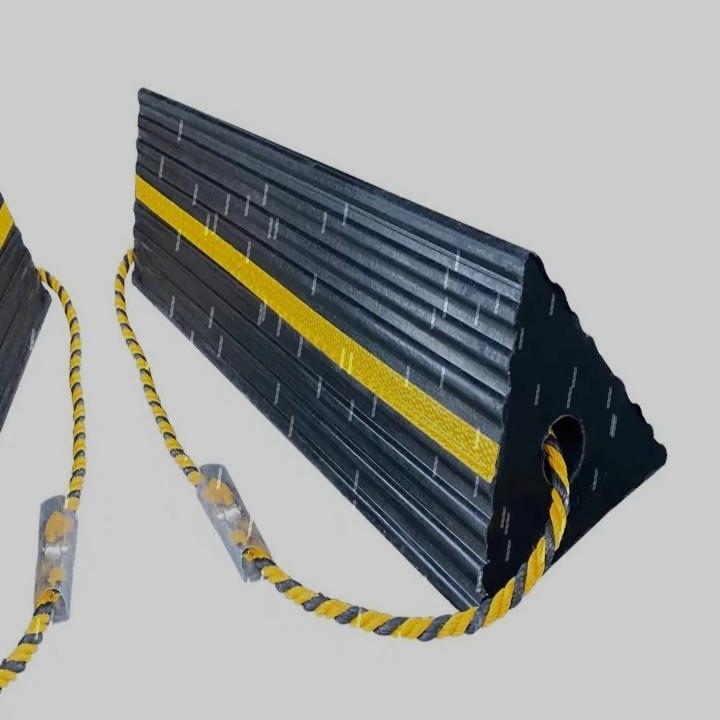chock: (88, 0, 697, 687)
